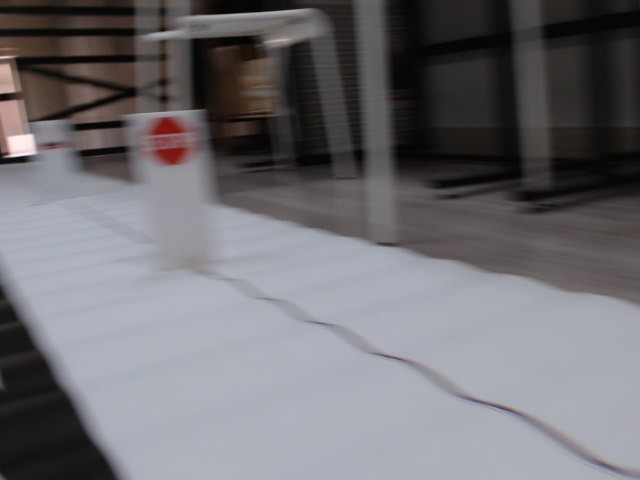Stop: (147, 117, 197, 164)
